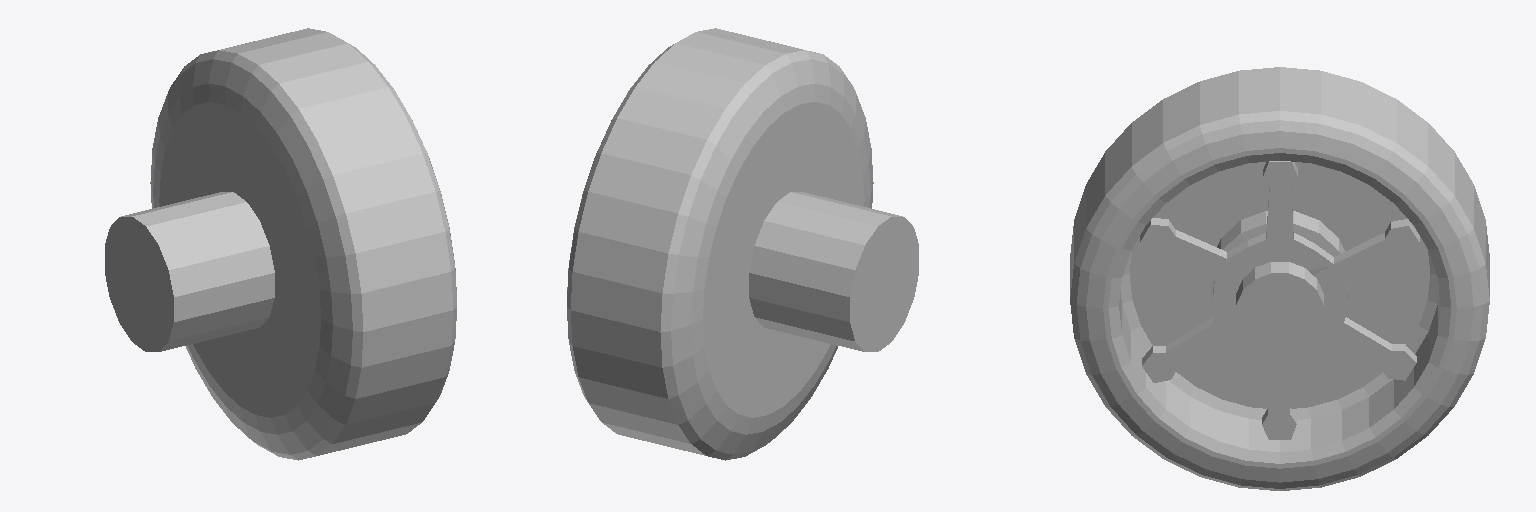
File: wheel.obj
The picture shows the model from 3 angles: view 1: azimuth 30°, elevation 25°; view 2: azimuth 150°, elevation 25°; view 3: azimuth 270°, elevation 25°; orthographic projection.
Visible parts, largest first — view 1: Cylinder.003_Cylinder.004, Cylinder.002_Cylinder.003; view 2: Cylinder.003_Cylinder.004, Cylinder.002_Cylinder.003; view 3: Cylinder.003_Cylinder.004, Plane.009, Cylinder.002_Cylinder.003.
Part boxes in pixels (left/top/right/bottom): Cylinder.003_Cylinder.004: left=150, top=28, right=456, bottom=460; Cylinder.002_Cylinder.003: left=105, top=192, right=274, bottom=351; Cylinder.003_Cylinder.004: left=567, top=28, right=873, bottom=460; Cylinder.002_Cylinder.003: left=749, top=192, right=918, bottom=351; Cylinder.003_Cylinder.004: left=1070, top=67, right=1489, bottom=490; Plane.009: left=1140, top=161, right=1419, bottom=439; Cylinder.002_Cylinder.003: left=1211, top=211, right=1348, bottom=352.
Bounding box in the file's own units: 0.3848 × 0.5993 × 0.5993.